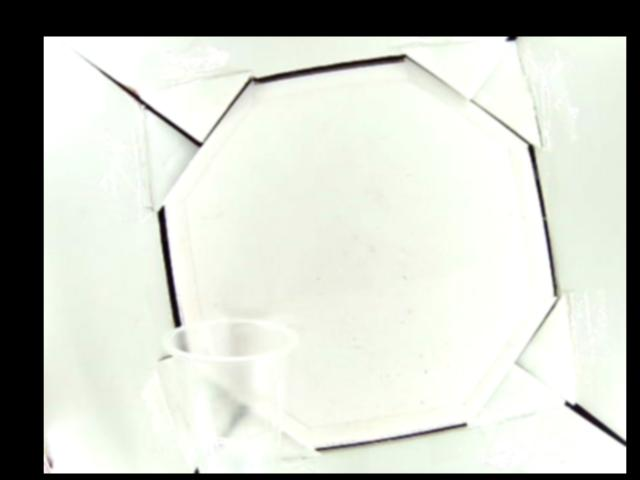Cup: (165, 316, 300, 473)
